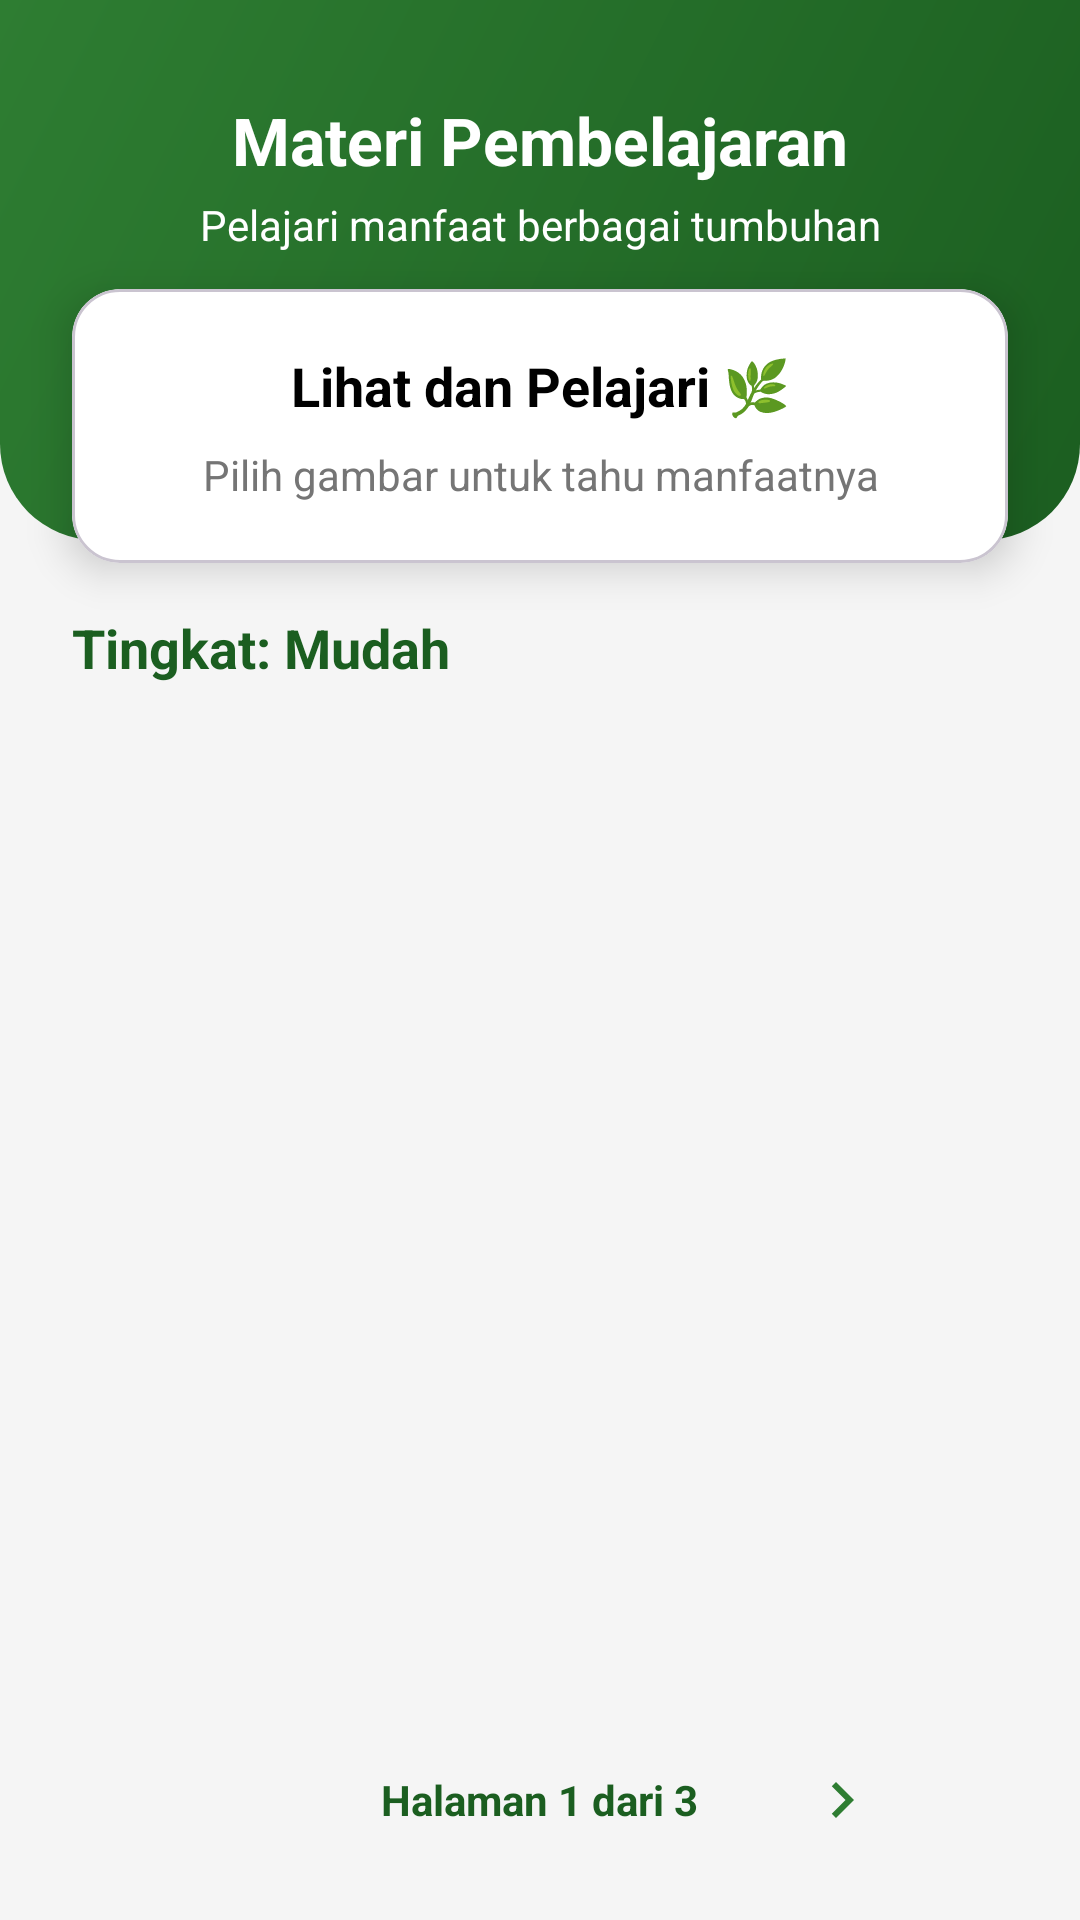

Icons on this 1080px×1920px Android screen, each with the point to tap as (x,y):
arrow right: (843,1800)
